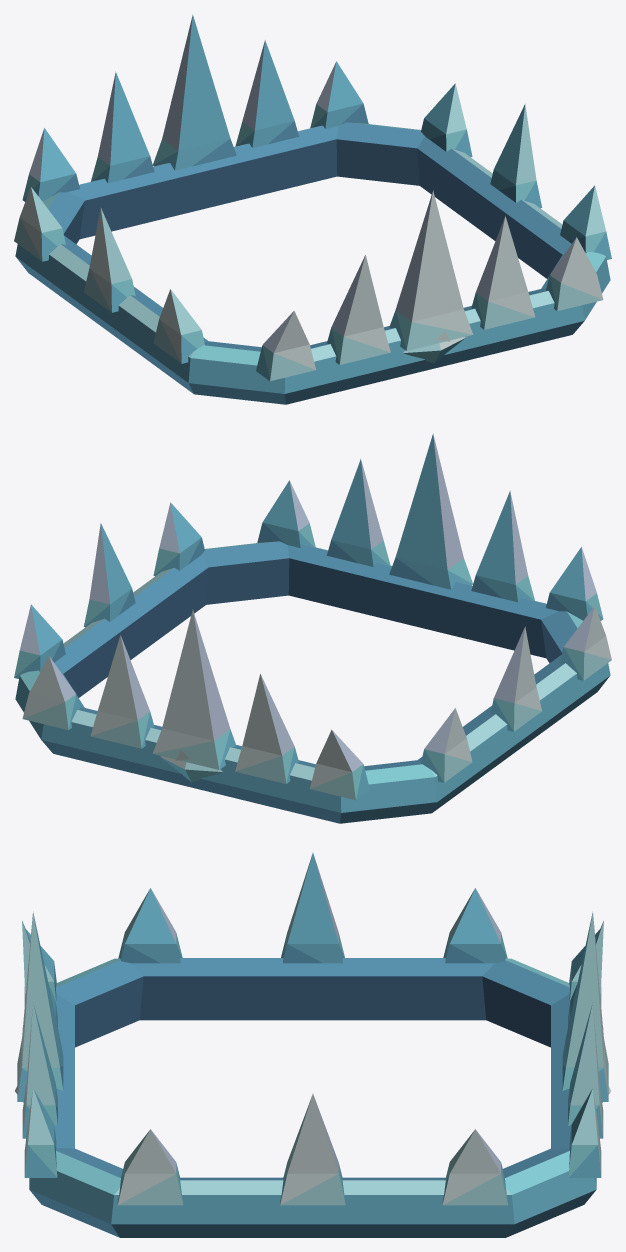
The model's file is ice_crown.glb.
The picture shows the model from 3 angles, top to bottom: view 1: azimuth 30°, elevation 25°; view 2: azimuth 150°, elevation 25°; view 3: azimuth 270°, elevation 25°; orthographic projection. The views are drawn at different scales.
Visible parts, largest first — view 1: head; view 2: head; view 3: head.
Boxes of the visible parts, x1,y1,x2,y2 form: head: [14, 14, 611, 404]; head: [14, 433, 611, 823]; head: [15, 853, 610, 1237].
Bounding box in the file's own units: 9.41 × 3.81 × 9.72.
